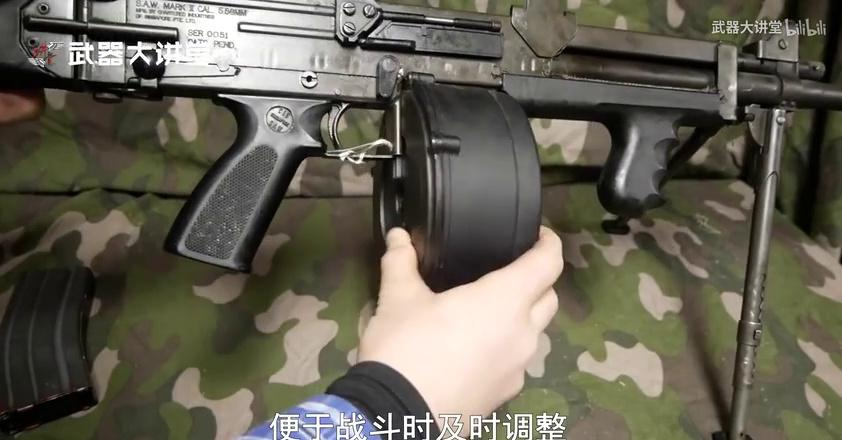gun: (1, 0, 842, 440)
